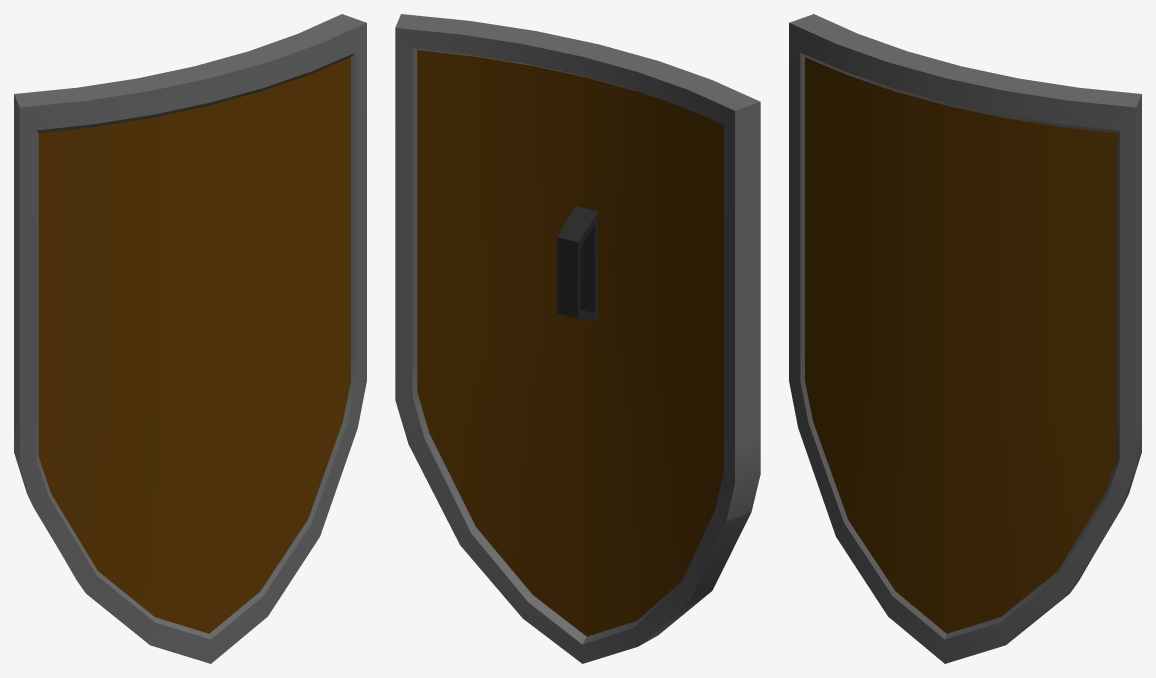
Rendered from Goblin_Shield.fbx.
3 renders of one model, left to right at view 1: azimuth 30°, elevation 25°; view 2: azimuth 150°, elevation 25°; view 3: azimuth 330°, elevation 25°, orthographic. The views are drawn at different scales.
Visible parts, largest first — view 1: GoblinShield; view 2: GoblinShield; view 3: GoblinShield.
Part boxes in pixels (box(x1,y1,x2,y2)): GoblinShield: box(14, 14, 366, 663); GoblinShield: box(395, 14, 760, 663); GoblinShield: box(789, 14, 1141, 663).
Size of the model in its own units: 0.6201 by 1 by 0.1018.
